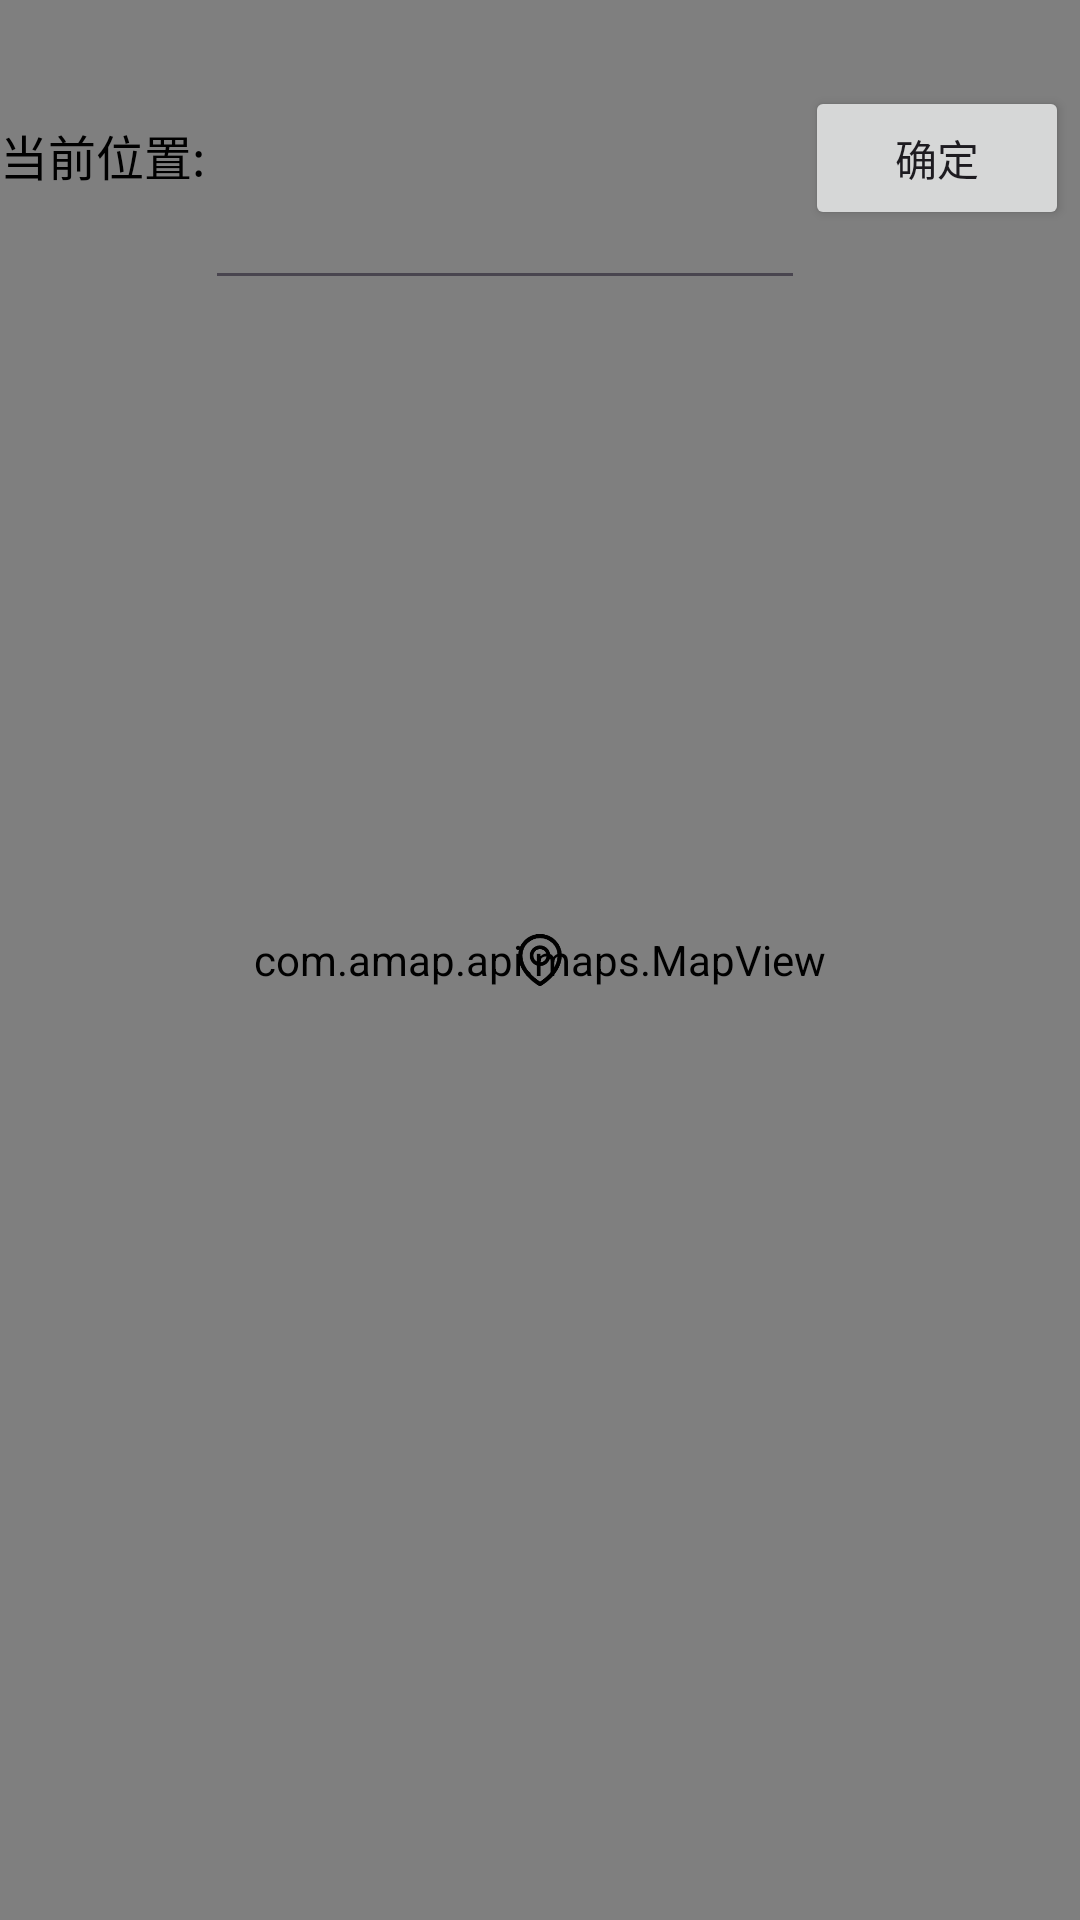

Screen size 1080 x 1920. Icon name, then its box in pixels as (x1, y1, x2, y2):
location: (516, 934, 568, 986)
